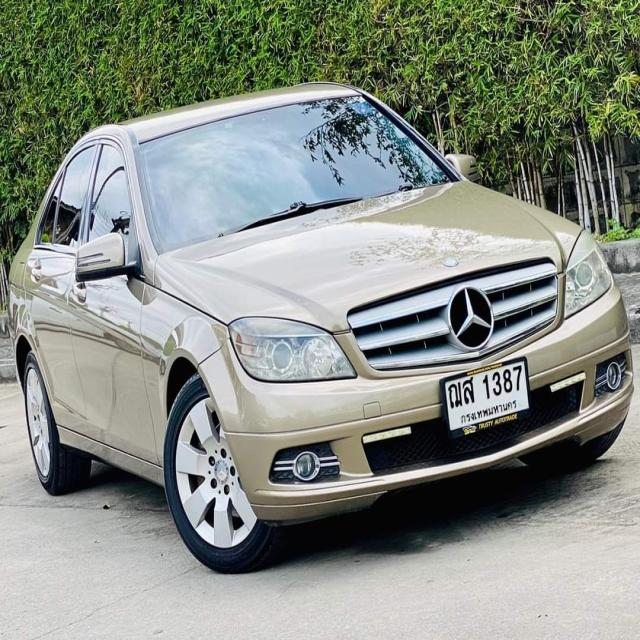license_plate: (432, 355, 535, 443)
